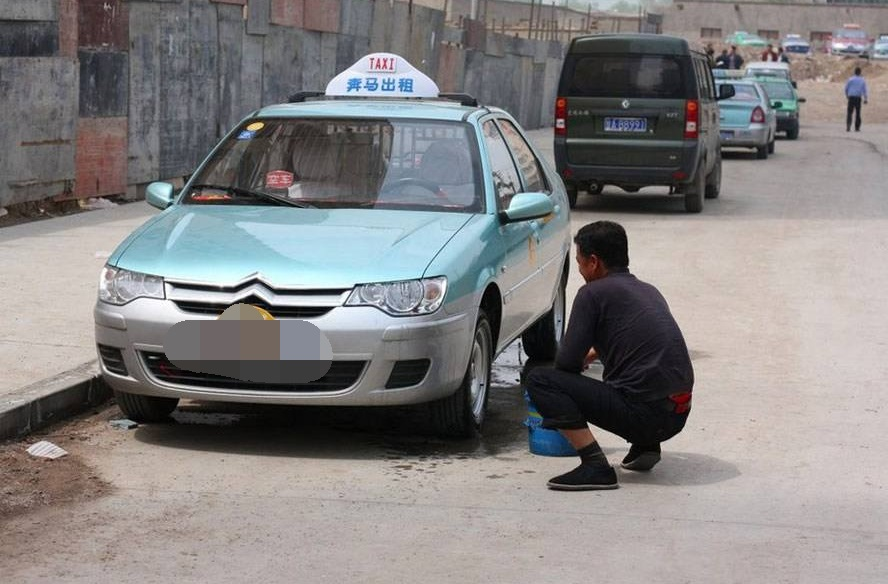taxi: (98, 53, 576, 451)
